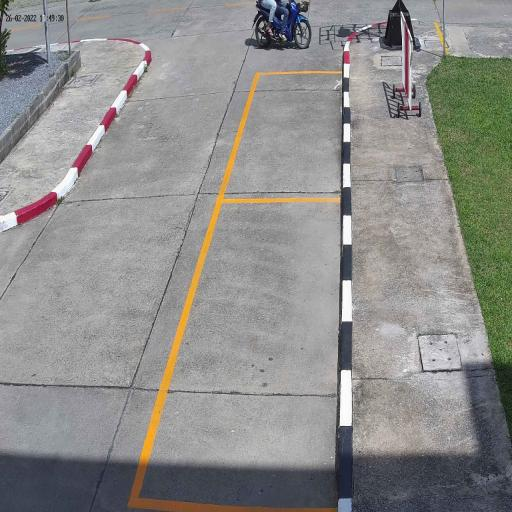motorcycle: (254, 0, 312, 50)
